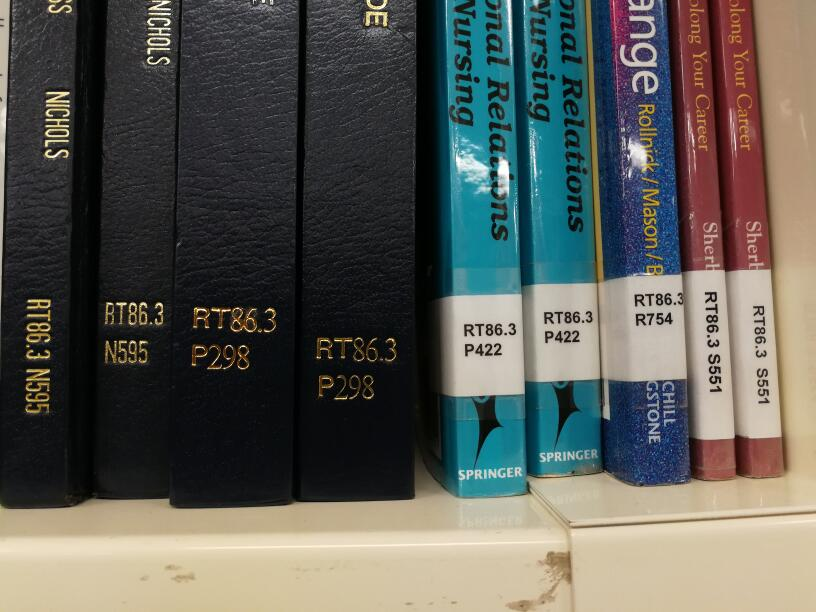booklabel: (187, 300, 282, 376), (313, 332, 400, 405), (100, 296, 168, 370), (21, 293, 55, 420), (746, 302, 774, 406), (700, 288, 725, 394), (460, 319, 519, 358), (632, 289, 684, 327), (541, 309, 595, 344)
